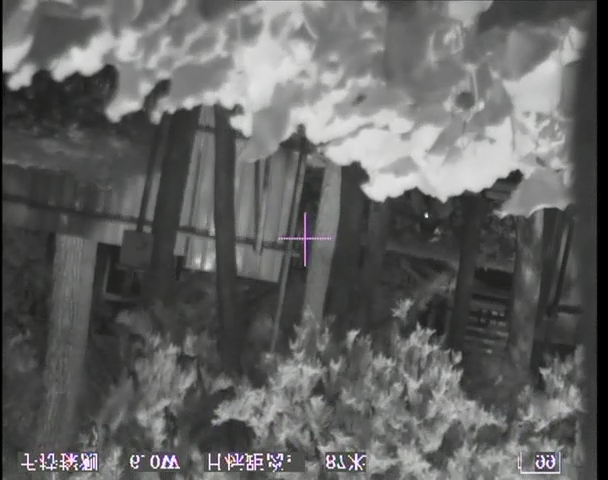my: (423, 210, 431, 219)
